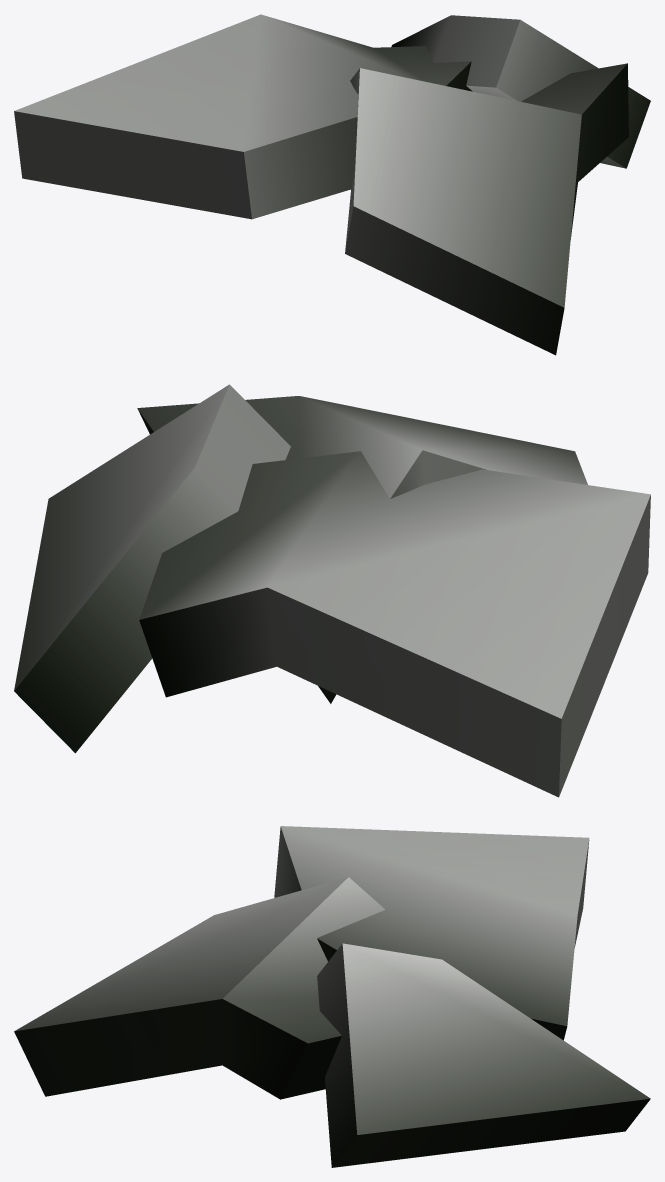
The model's file is Building_T017.fbx.
3 renders of one model, top to bottom at view 1: azimuth 30°, elevation 25°; view 2: azimuth 150°, elevation 25°; view 3: azimuth 270°, elevation 25°, orthographic. The views are drawn at different scales.
Visible parts, largest first — view 1: Building_T017; view 2: Building_T017; view 3: Building_T017.
Boxes of the visible parts, x1,y1,x2,y2 form: Building_T017: [14, 14, 650, 355]; Building_T017: [14, 384, 650, 797]; Building_T017: [14, 826, 650, 1167].
Bounding box in the file's own units: 13.43 × 4.98 × 13.8.
